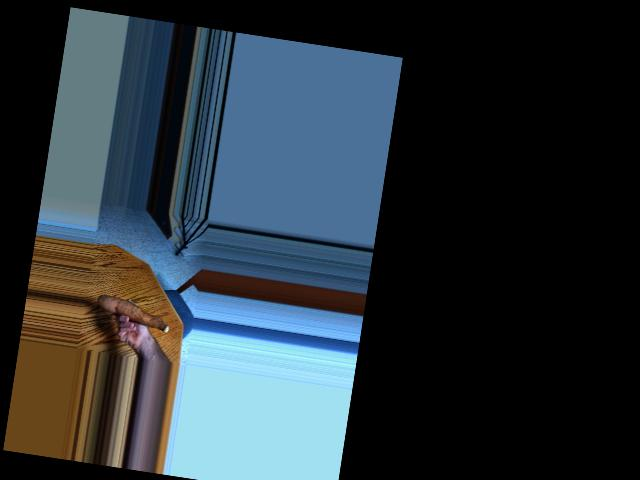sweet_potato: (97, 289, 171, 333)
